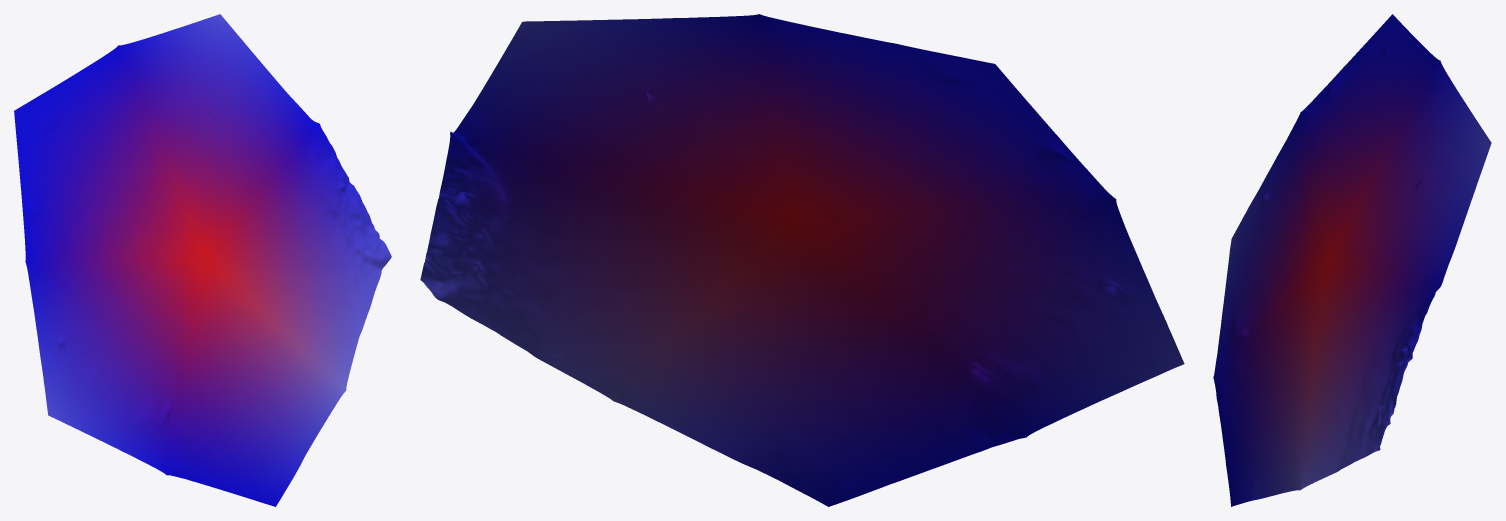
Rendered from Hex_39.fbx.
The picture shows the model from 3 angles, left to right: view 1: azimuth 30°, elevation 25°; view 2: azimuth 150°, elevation 25°; view 3: azimuth 270°, elevation 25°; orthographic projection. The views are drawn at different scales.
Parts seen in each view (by area): view 1: Hex_39; view 2: Hex_39; view 3: Hex_39.
Part boxes in pixels (x1,y1,x2,y2): Hex_39: [14, 14, 391, 506]; Hex_39: [420, 14, 1184, 506]; Hex_39: [1213, 14, 1491, 506].
Bounding box in the file's own units: 399 × 369 × 223.
